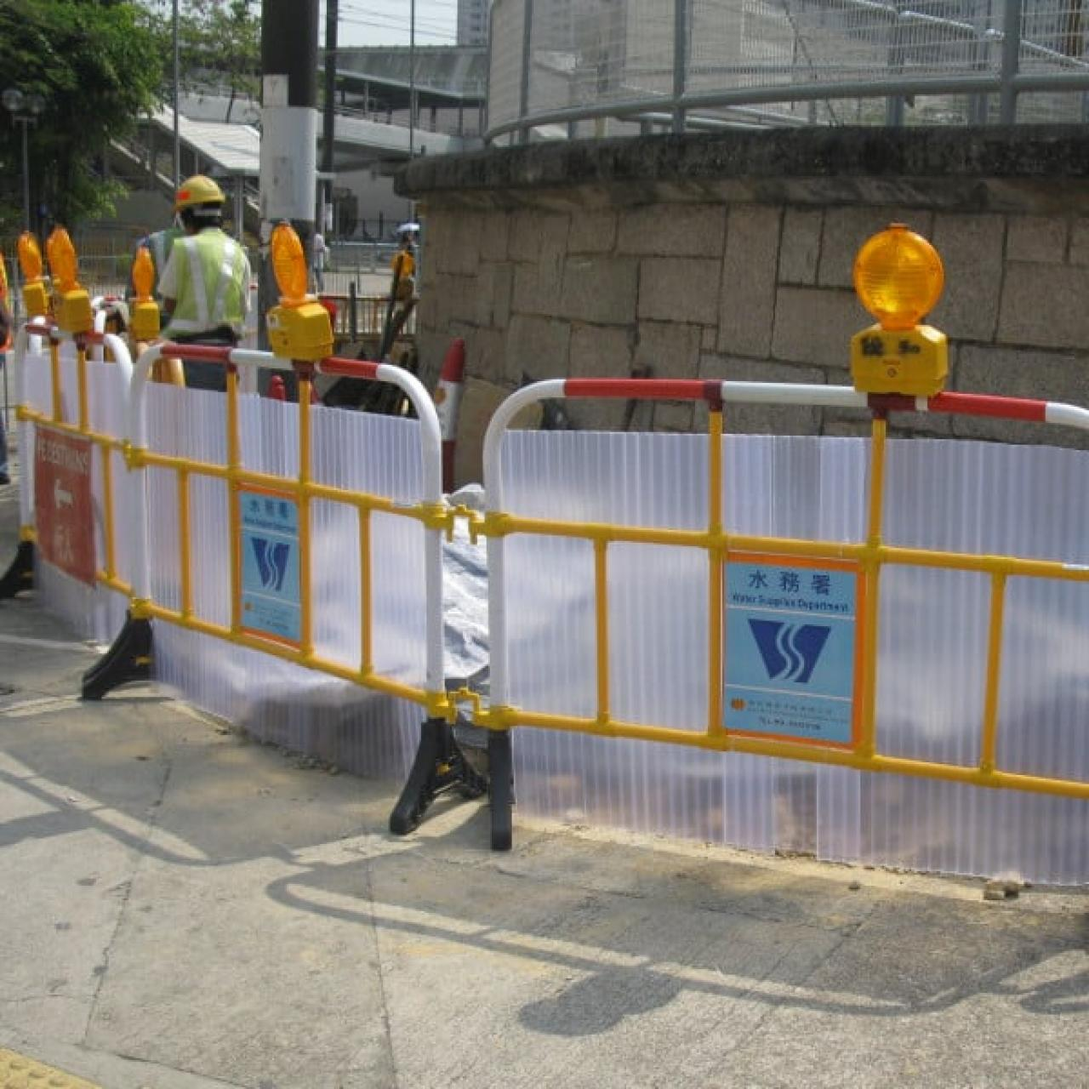Person: (150, 170, 257, 375)
Safety_Vest: (167, 234, 252, 339)
